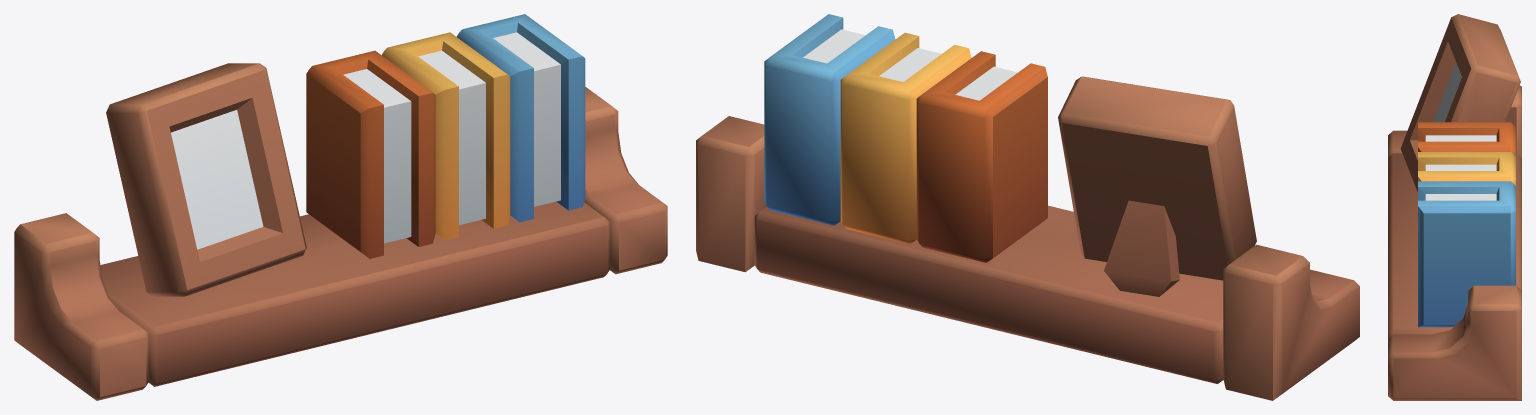
Rendered from shelf-b-large-decorated.glb.
3 renders of one model, left to right at view 1: azimuth 30°, elevation 25°; view 2: azimuth 150°, elevation 25°; view 3: azimuth 270°, elevation 25°, orthographic. The views are drawn at different scales.
Parts seen in each view (by area): view 1: shelf_B_large_decorated; view 2: shelf_B_large_decorated; view 3: shelf_B_large_decorated.
Boxes of the visible parts, x1=… form: shelf_B_large_decorated: x1=14, y1=14, x2=667, y2=400; shelf_B_large_decorated: x1=696, y1=14, x2=1359, y2=400; shelf_B_large_decorated: x1=1388, y1=14, x2=1521, y2=400.
Bounding box in the file's own units: 2 × 0.8175 × 0.5.
